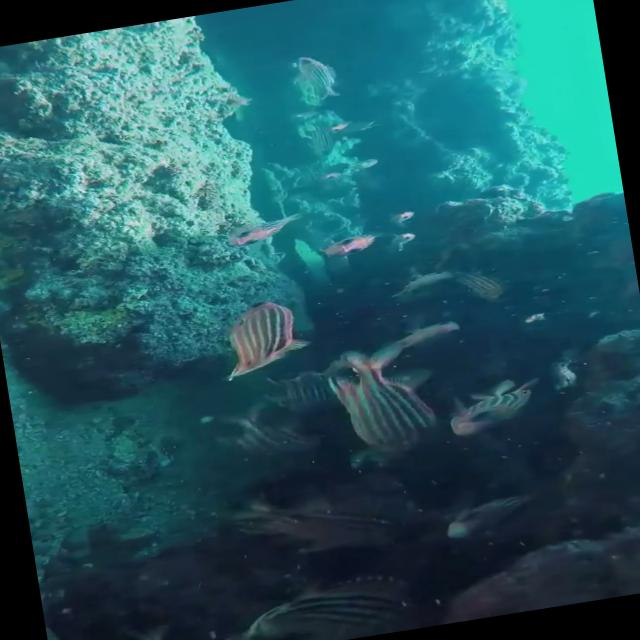Asker Baligi: (310, 346, 448, 474), (212, 294, 315, 382)
